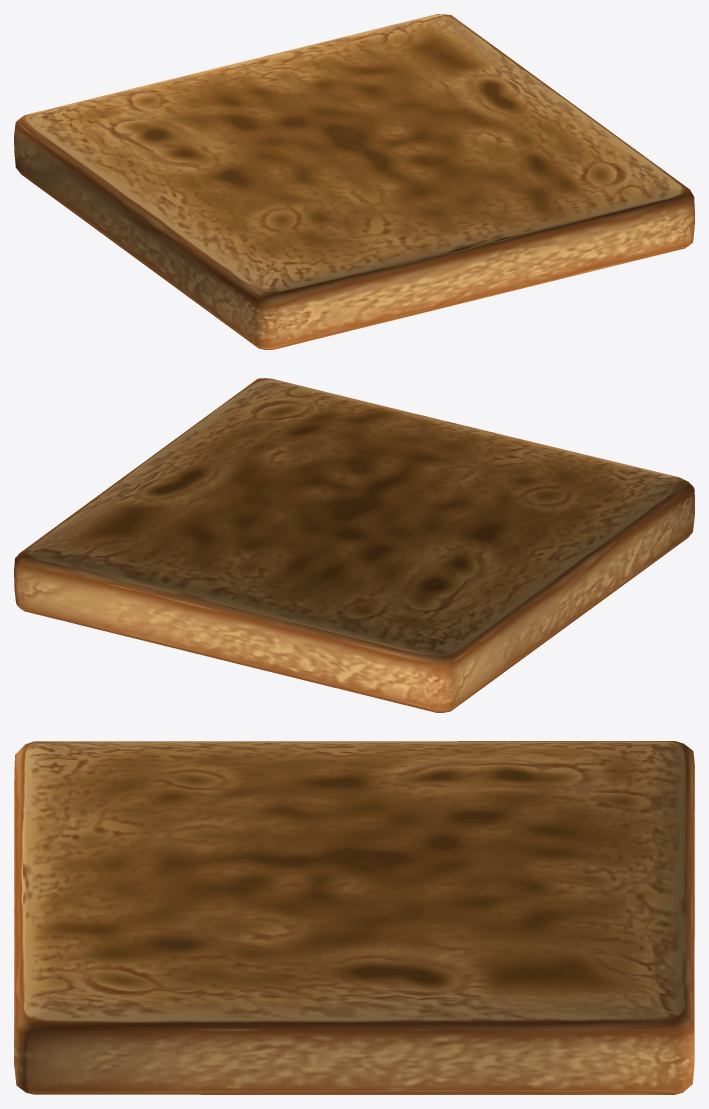
The model's file is toast_top.obj.
The picture shows the model from 3 angles, top to bottom: view 1: azimuth 30°, elevation 25°; view 2: azimuth 150°, elevation 25°; view 3: azimuth 270°, elevation 25°; orthographic projection. The views are drawn at different scales.
Visible parts, largest first — view 1: obj2; view 2: obj2; view 3: obj2.
Boxes of the visible parts, x1,y1,x2,y2 form: obj2: (14,14,694,349); obj2: (14,378,694,712); obj2: (14,741,694,1094).
Bounding box in the file's own units: 0.1812 × 0.0275 × 0.1808.
Materials: 1 (1 with a texture image).
